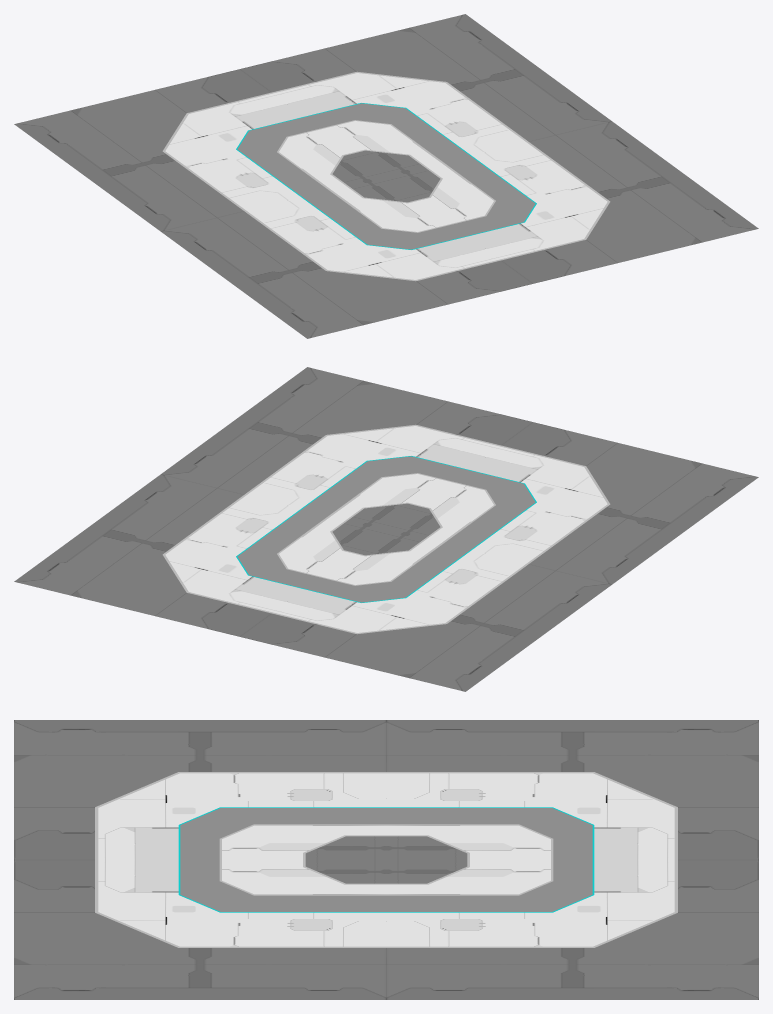
The model's file is SM_Floor_Interior_16x18_1.fbx.
3 renders of one model, top to bottom at view 1: azimuth 30°, elevation 25°; view 2: azimuth 150°, elevation 25°; view 3: azimuth 270°, elevation 25°, orthographic. The views are drawn at different scales.
Parts seen in each view (by area): view 1: SM_Floor_Interior_16x18_1; view 2: SM_Floor_Interior_16x18_1; view 3: SM_Floor_Interior_16x18_1.
Part boxes in pixels (bbox=[...]): SM_Floor_Interior_16x18_1: bbox=[14, 14, 758, 338]; SM_Floor_Interior_16x18_1: bbox=[14, 367, 758, 691]; SM_Floor_Interior_16x18_1: bbox=[14, 720, 758, 999].
Size of the model in its own units: 1600 by 4.17e-07 by 1800.
